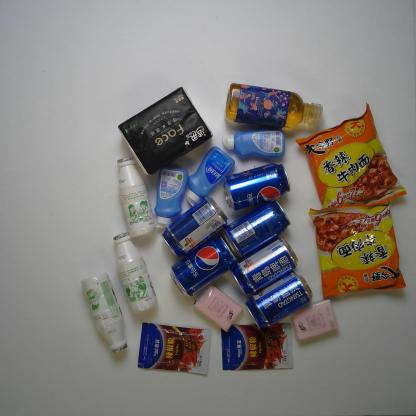Alcohol: (243, 267, 318, 332), (228, 234, 300, 298), (160, 193, 229, 259)
Drink: (222, 80, 326, 132), (167, 232, 240, 299), (220, 198, 292, 264), (220, 161, 292, 212)
Instant Noodles: (294, 101, 410, 211), (306, 195, 408, 302)
Milk: (77, 270, 129, 355), (110, 231, 160, 316), (114, 154, 159, 240)
Personal Hygiene: (183, 144, 237, 208), (151, 164, 190, 232), (220, 127, 288, 163)
Seasoner: (133, 320, 214, 378), (217, 320, 296, 373)
Tissue: (114, 83, 216, 177), (189, 281, 245, 335), (287, 296, 341, 346)
